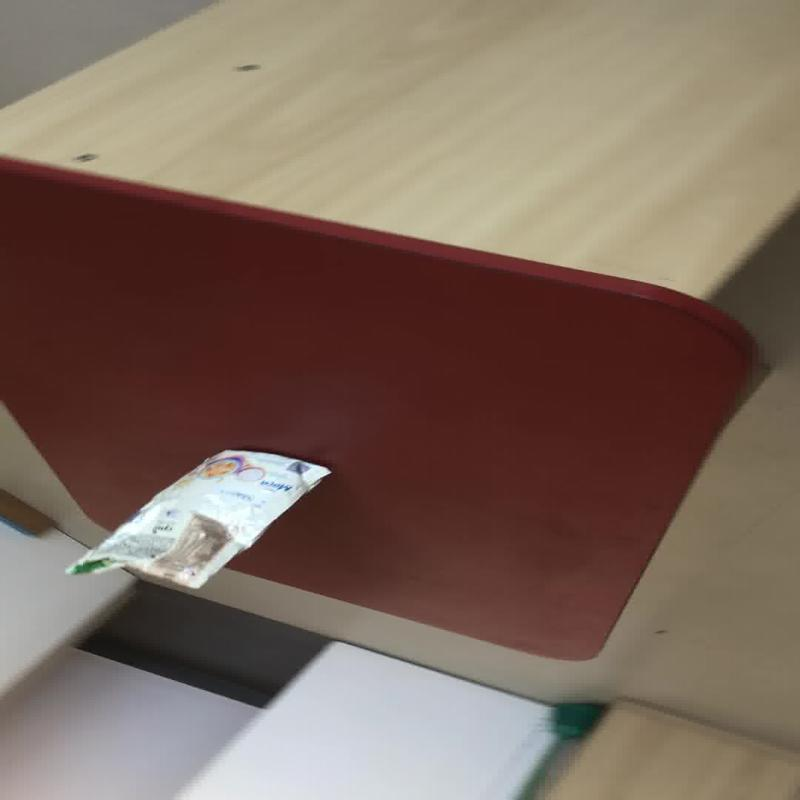corn flakes: (63, 447, 331, 590)
